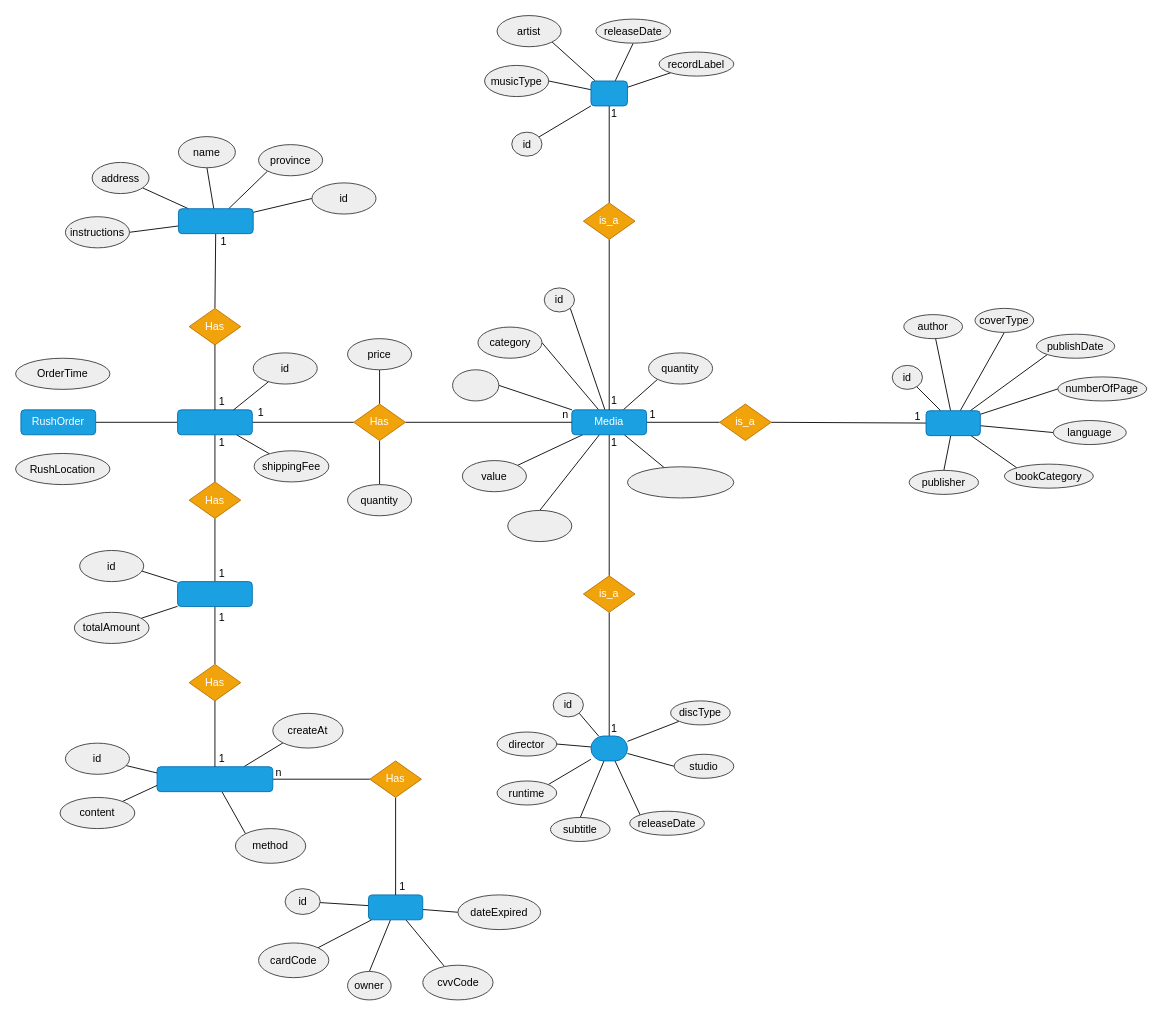
This 1162x1015 diagram has some shape labels left out. The shapes that lost their labels are listed below. From the top down, each one's centre as x and y in pixels, then its label:
At (x=608, y=93): "CD".
At (x=215, y=221): "DeliveryInfo".
At (x=475, y=385): "title".
At (x=214, y=422): "Order".
At (x=952, y=423): "Book".
At (x=680, y=482): "supportRushOrder".
At (x=539, y=526): "imageURL".
At (x=214, y=594): "Invoice".
At (x=608, y=748): "DVD".
At (x=214, y=779): "PaymentTransaction".
At (x=395, y=907): "Card".
